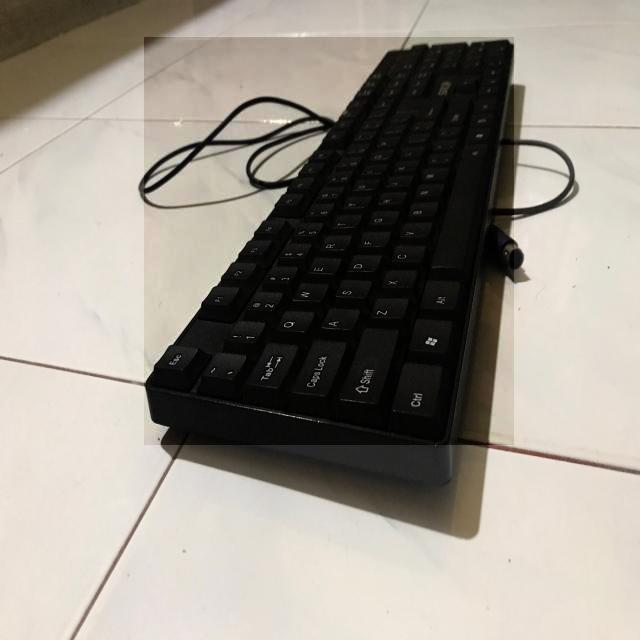-mouse-: (144, 38, 514, 445)
